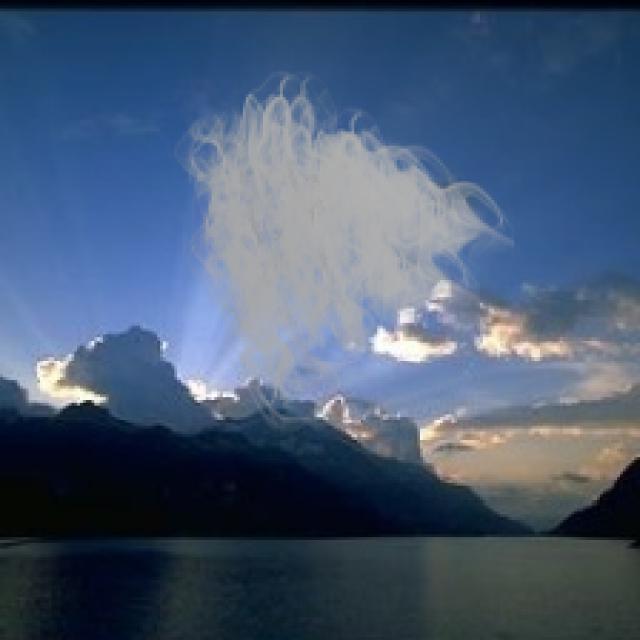smoke: (166, 60, 514, 437)
